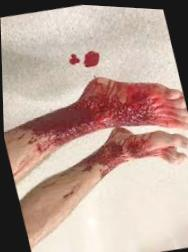Fire: (20, 75, 188, 150), (75, 125, 163, 177), (84, 48, 100, 65), (69, 52, 80, 63)
